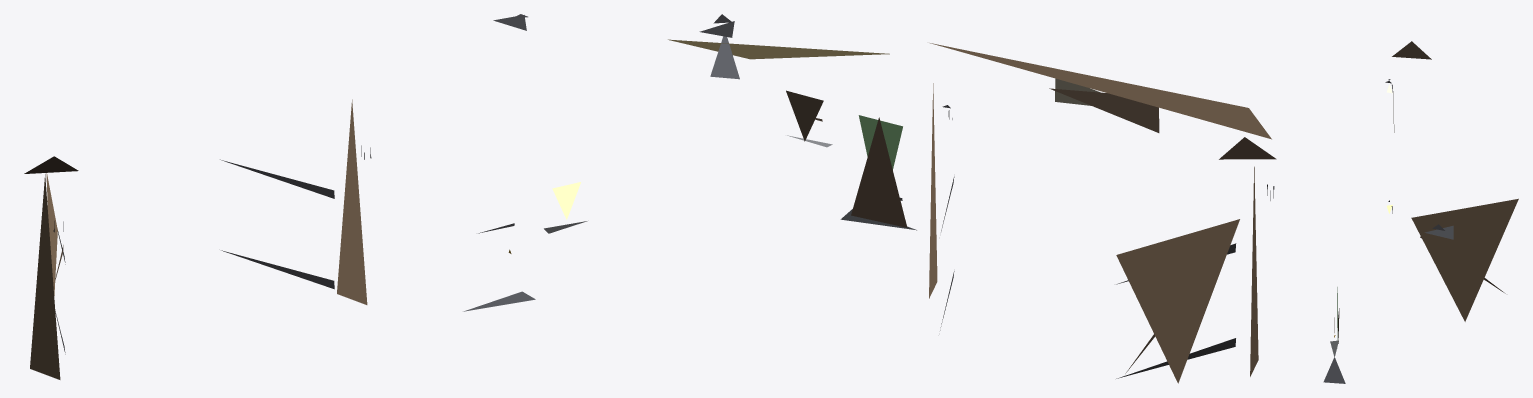
File: bree_gate_watch_lod2.glb
3 views of the same model, side by side, from view 1: azimuth 30°, elevation 25°; view 2: azimuth 150°, elevation 25°; view 3: azimuth 270°, elevation 25° (orthographic). The views are drawn at different scales.
Parts seen in each view (by area): view 1: bree_gate_watch_lod2; view 2: bree_gate_watch_lod2; view 3: bree_gate_watch_lod2.
Boxes of the visible parts, x1,y1,x2,y2 form: bree_gate_watch_lod2: (24, 14, 587, 379); bree_gate_watch_lod2: (668, 14, 1276, 383); bree_gate_watch_lod2: (1323, 41, 1518, 383).
Size of the model in its own units: 11.7 by 5 by 4.39.
